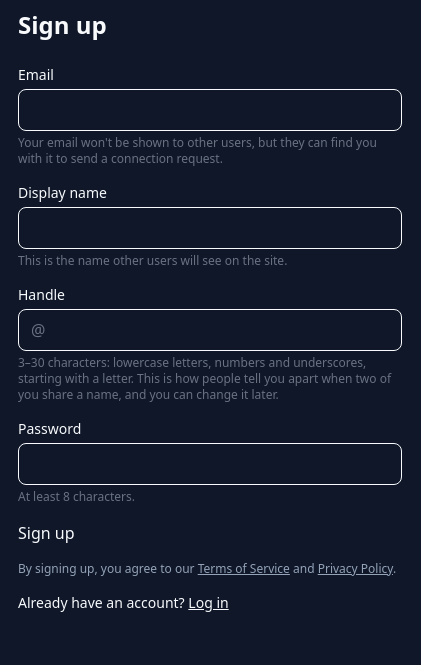
Test case: SignupPage › surfaces email_in_use
In the field labelled "Email": (210, 110) [18,89,402,131], type "x@y.com"
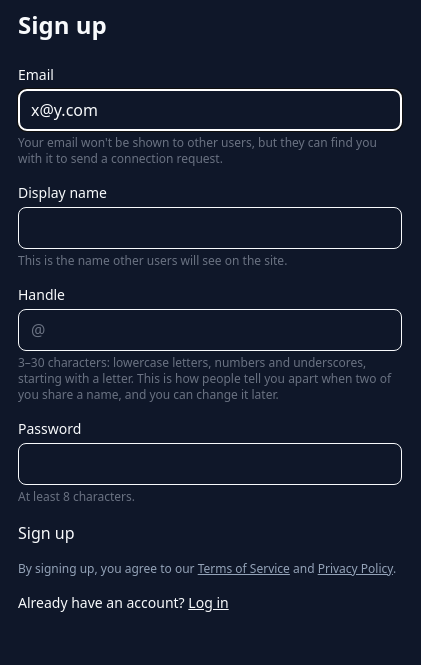
In the field labelled "Display name": (210, 228) [18,207,402,249], type "X"
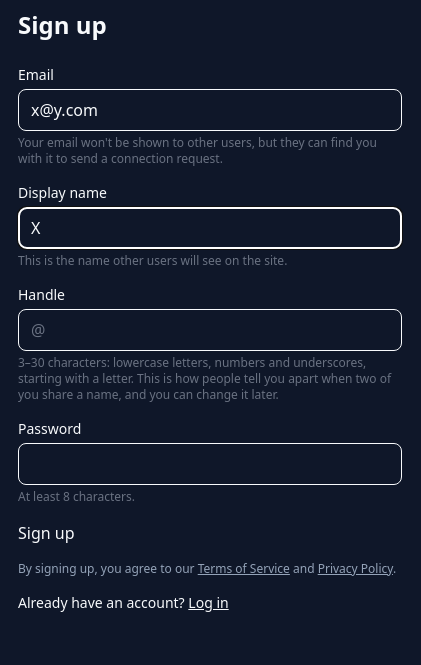
In the field labelled "Handle": (223, 330) [45,310,401,350], type "x_user"
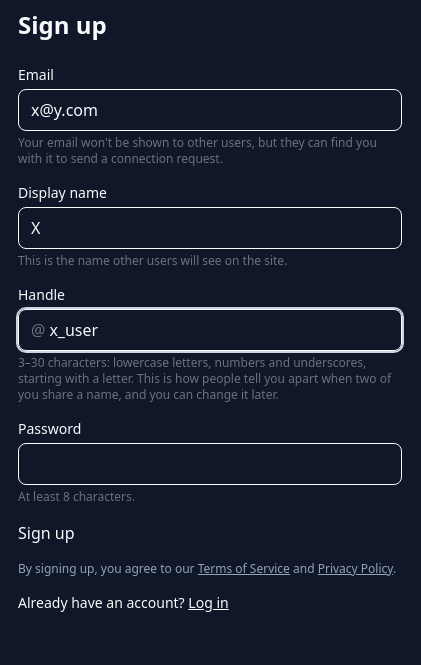
In the password field labelled "Password": (210, 464) [18,443,402,485], type "hunter2hunter2"
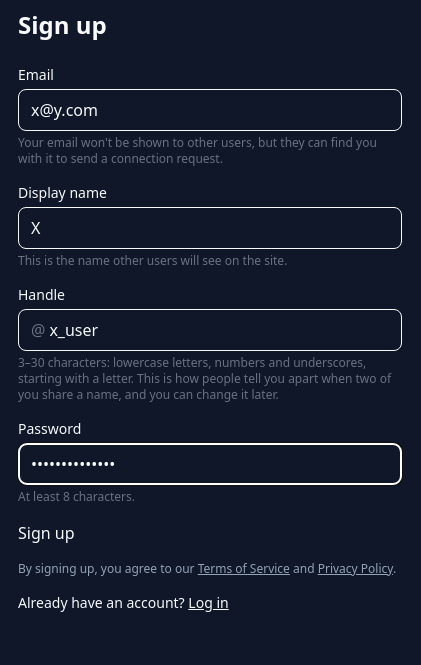
Click the button "Sign up": (46, 533) [18,521,74,545]
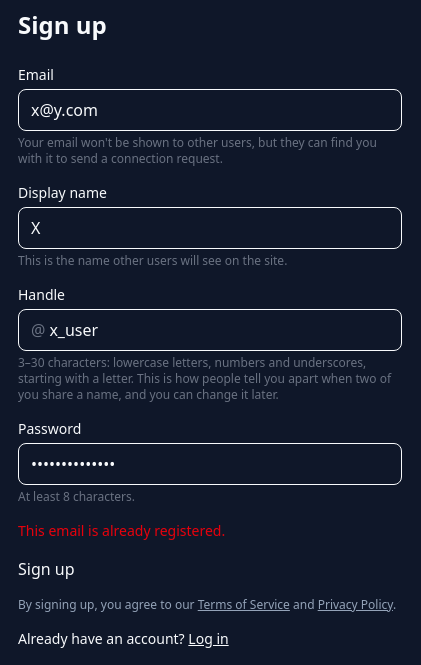
expect the text "This email is already registered." is shown: met, box [18,521,225,540]
